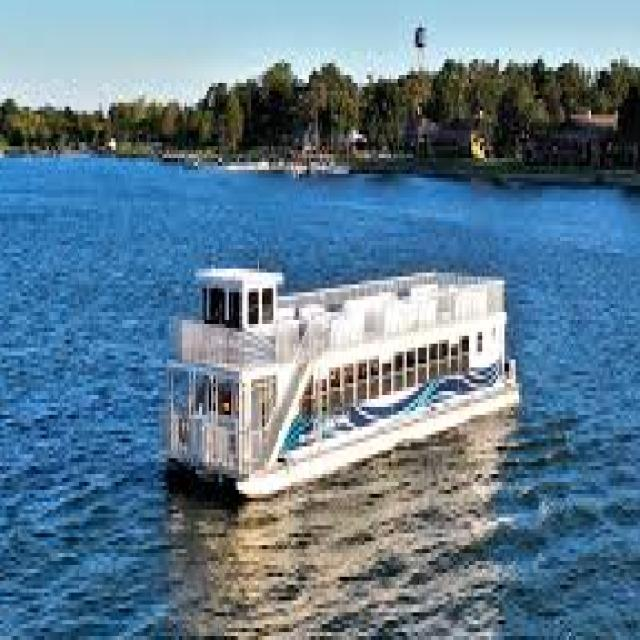passenger ship: (148, 232, 543, 496)
